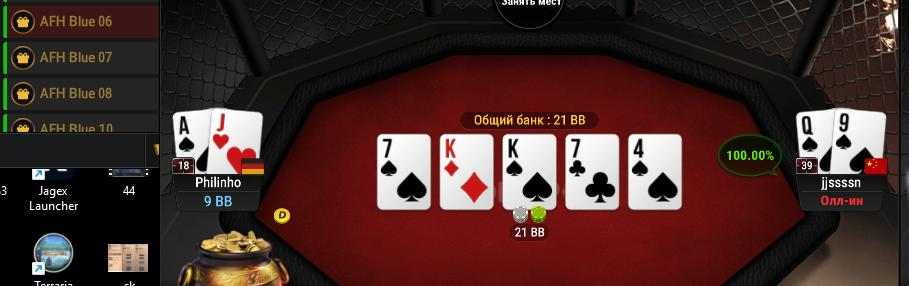4s: (629, 135, 679, 209)
7c: (566, 133, 621, 210)
7s: (377, 135, 430, 209)
9s: (834, 111, 885, 174)
As: (171, 110, 210, 172)
Jh: (210, 109, 263, 175)
Kd: (440, 134, 494, 211)
Ks: (504, 133, 556, 211)
Qs: (796, 110, 833, 174)
